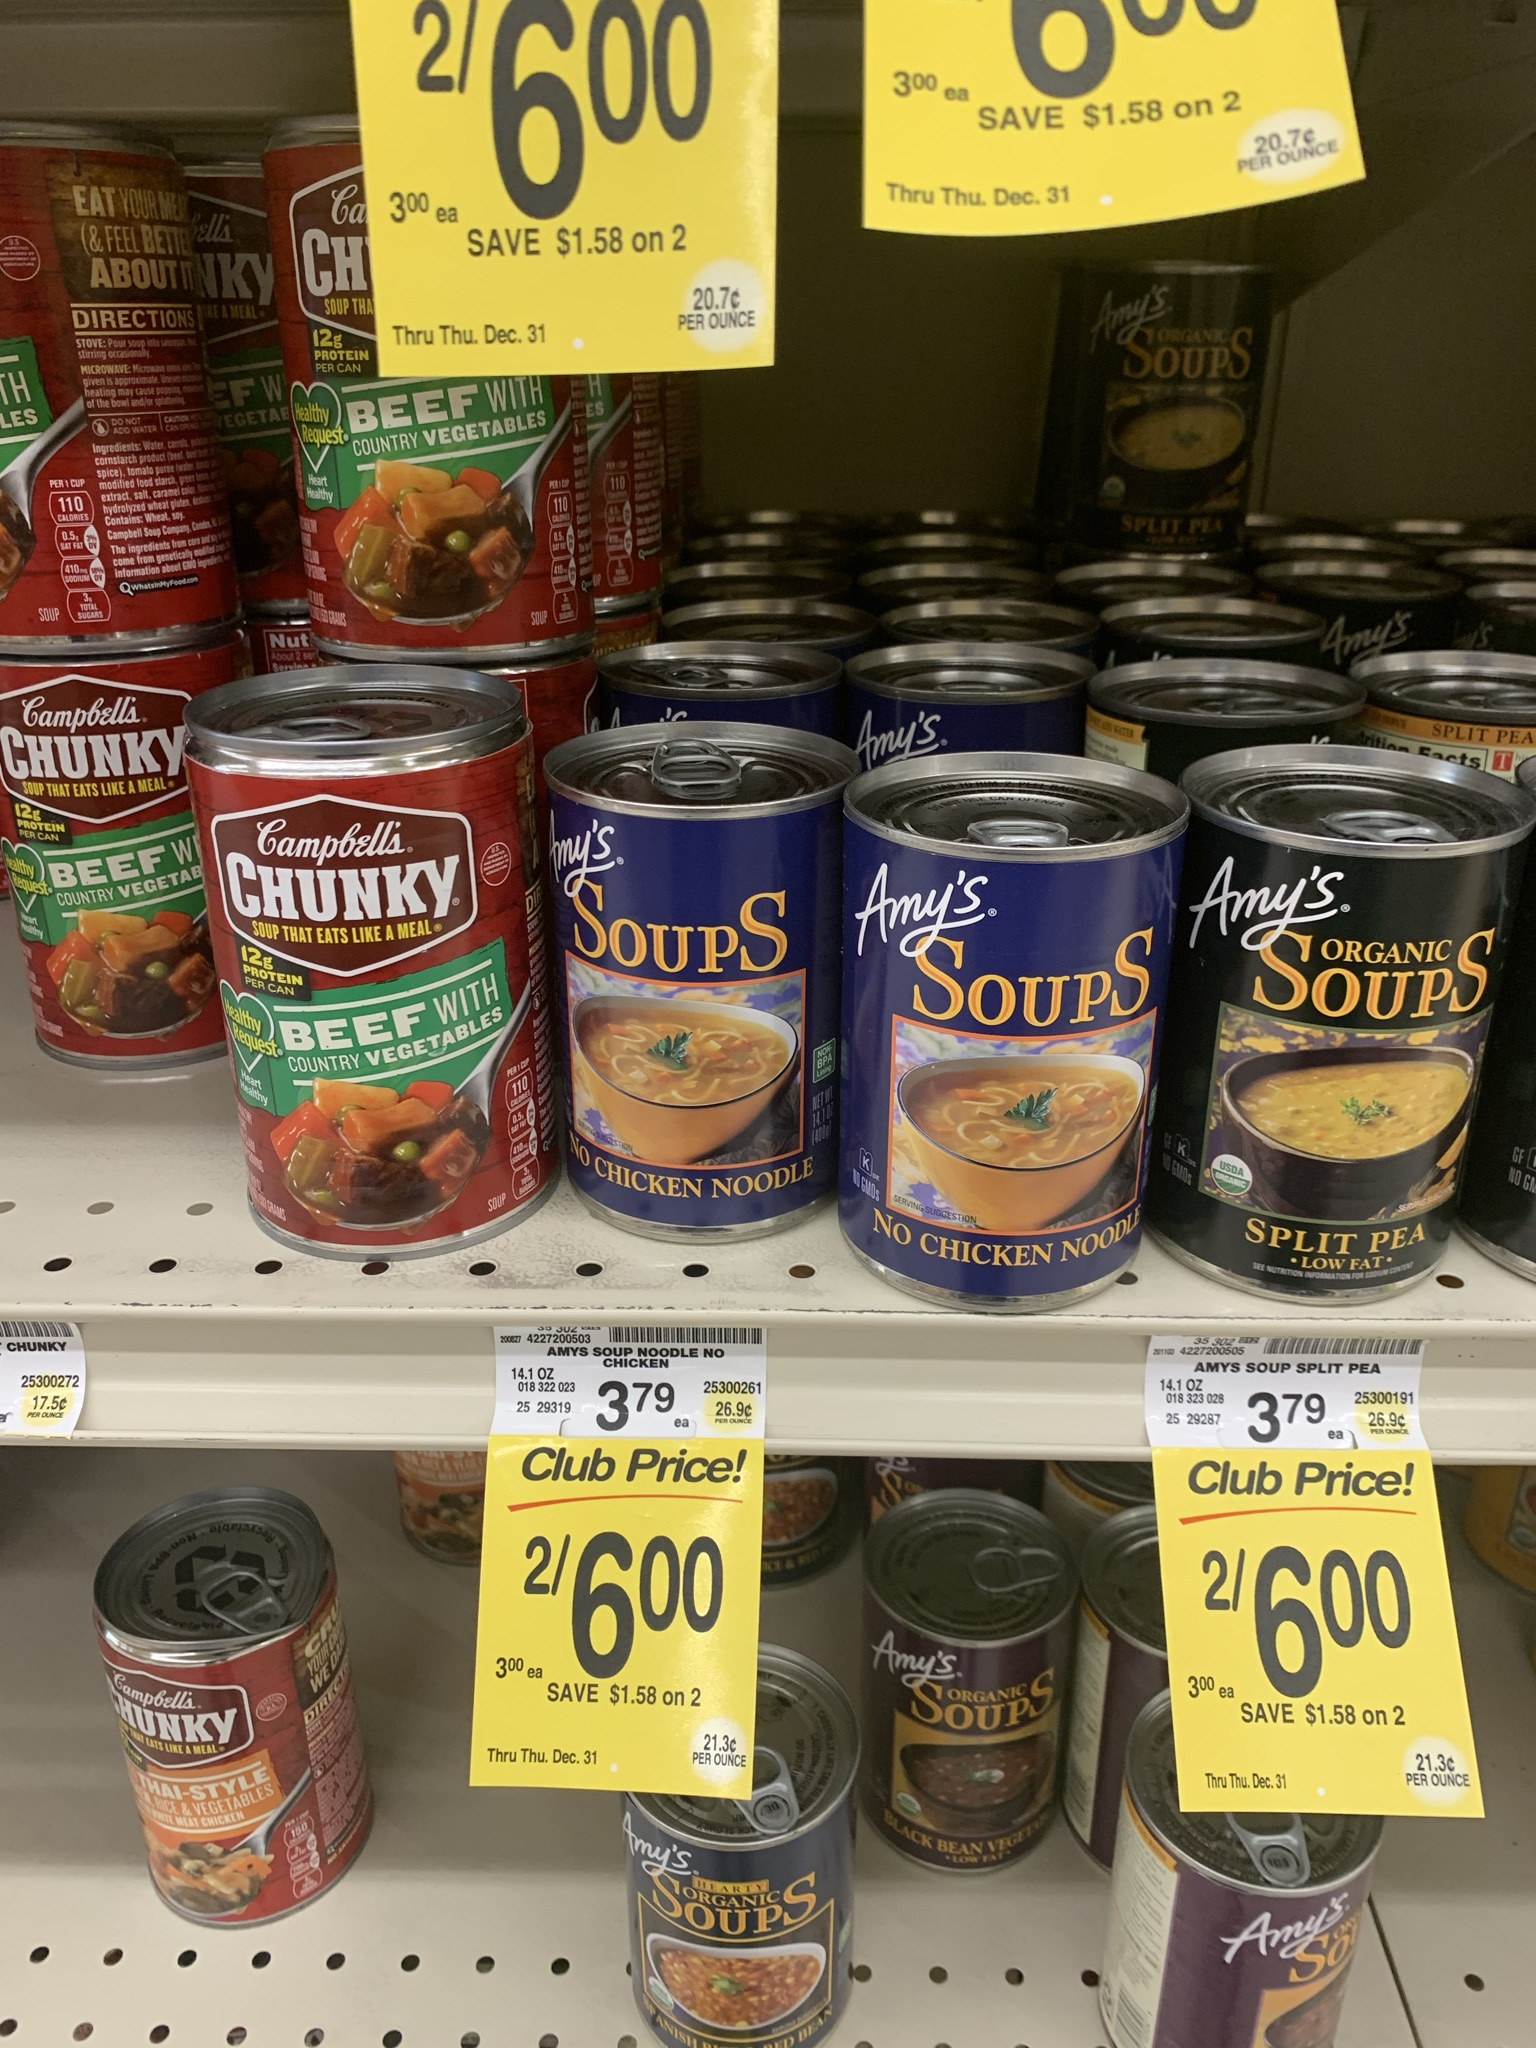can: (244, 777, 531, 1213), (1213, 830, 1483, 1250), (870, 855, 1142, 1251), (582, 822, 826, 1214), (2, 169, 173, 640), (137, 1550, 337, 1904), (23, 666, 174, 1008), (874, 1558, 1050, 1843), (1142, 1827, 1350, 2048), (639, 1809, 837, 2038)
